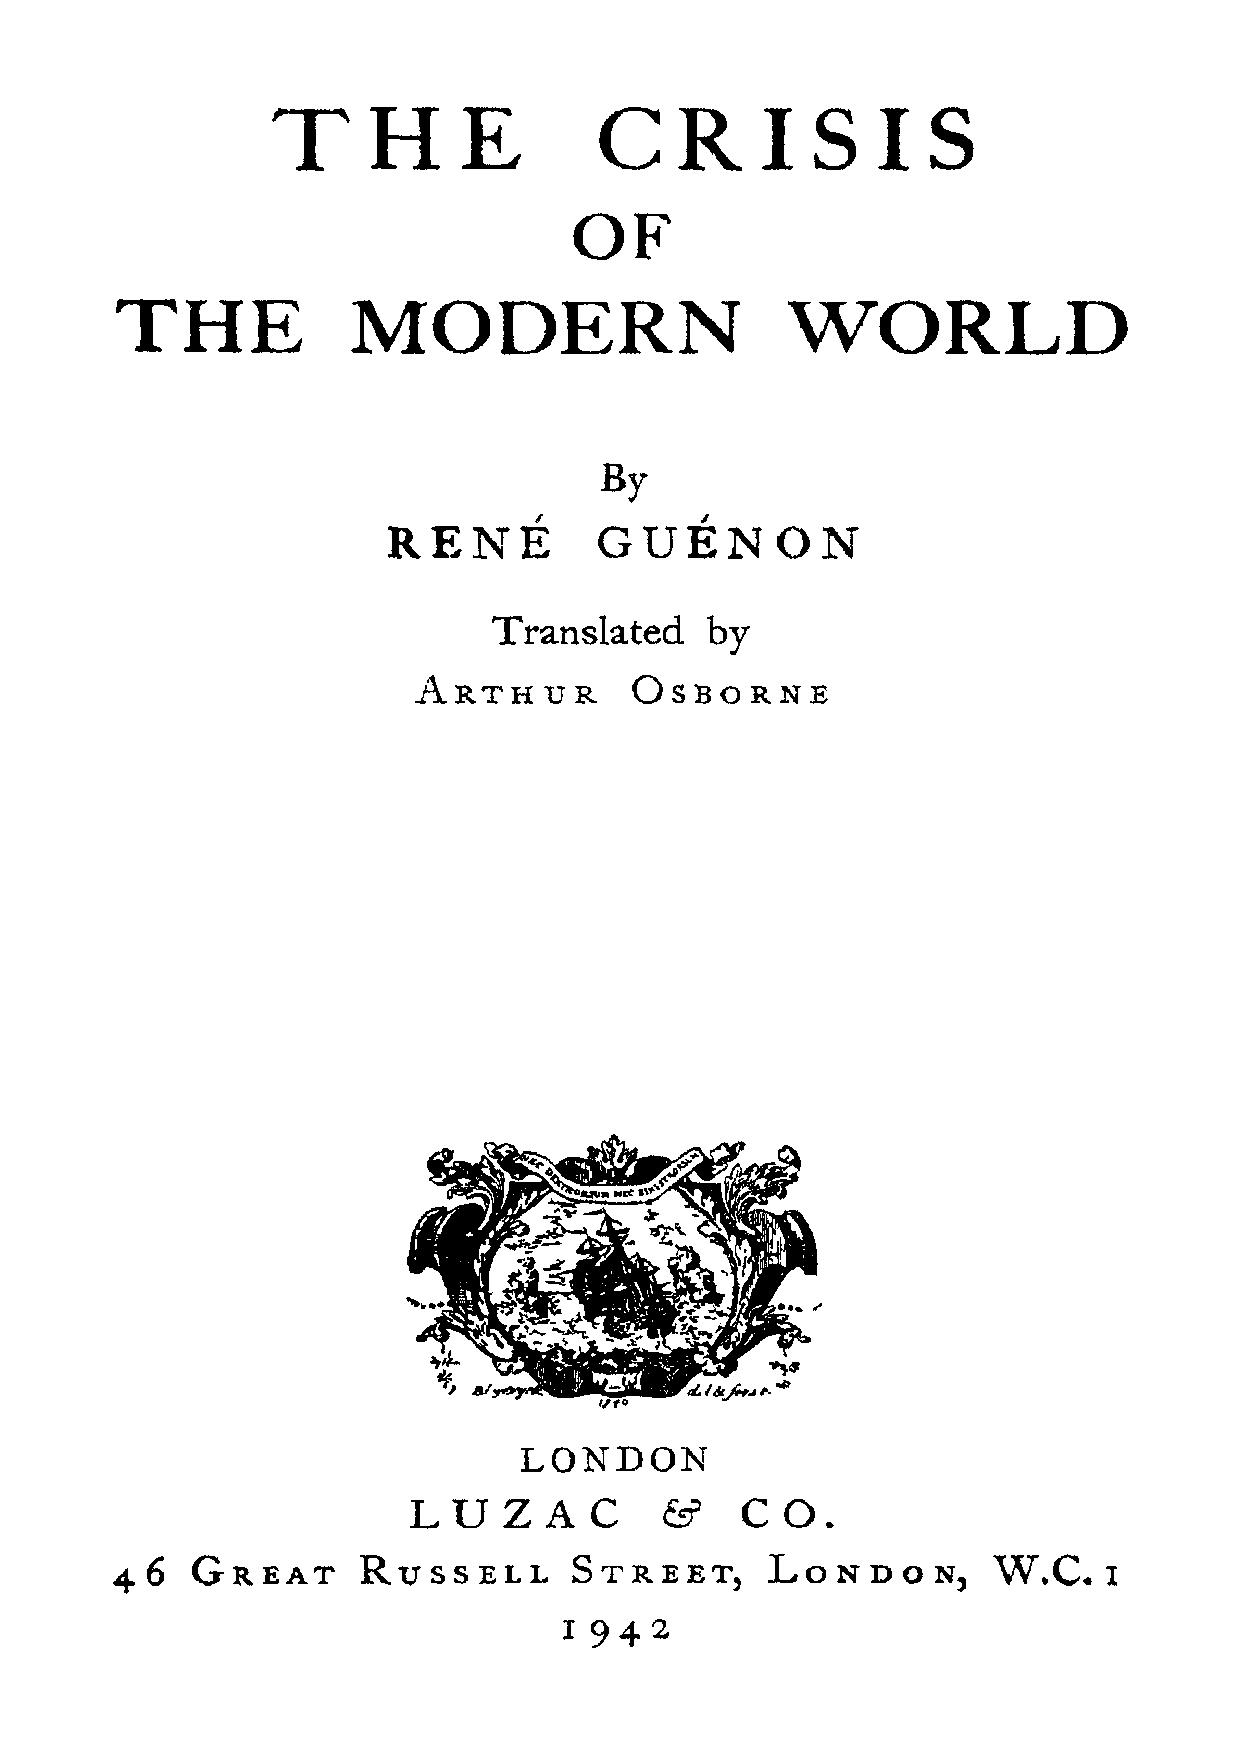author: (382, 458, 859, 560)
title: (110, 103, 1129, 357)
